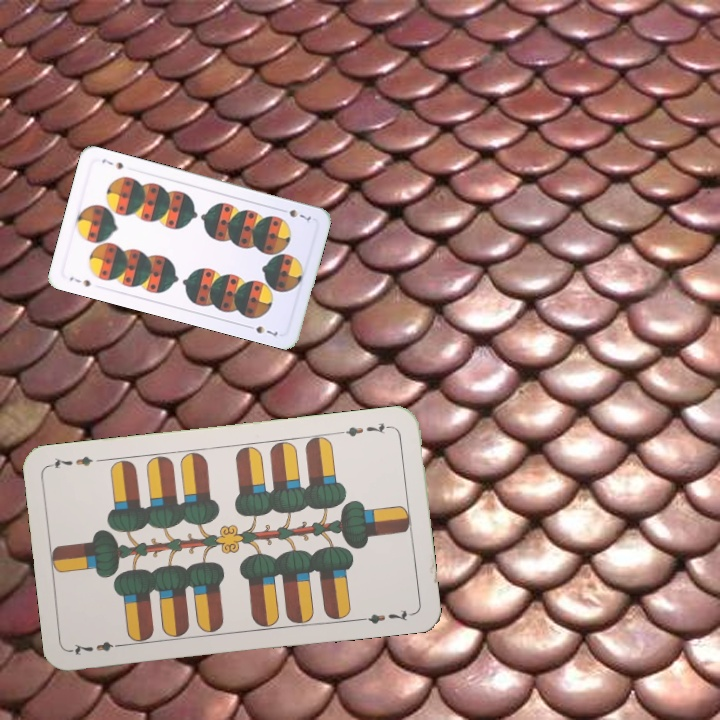E7: (335, 418, 394, 440), (68, 637, 127, 658)
S7: (276, 204, 314, 223), (65, 273, 93, 290)
